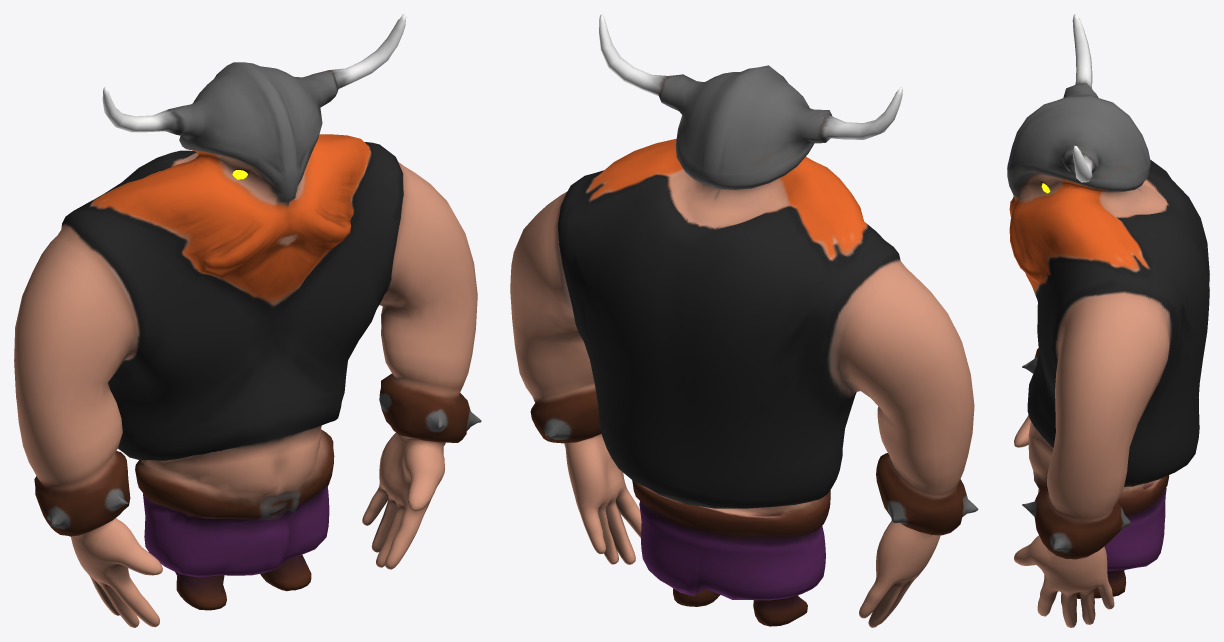
The model's file is intro_enemy(brute-viking)_01.FBX.
3 views of the same model, side by side, from view 1: azimuth 30°, elevation 25°; view 2: azimuth 150°, elevation 25°; view 3: azimuth 270°, elevation 25° (orthographic). The views are drawn at different scales.
Parts seen in each view (by area): view 1: brute_viking_mesh; view 2: brute_viking_mesh; view 3: brute_viking_mesh.
Boxes of the visible parts, box(x1,y1,x2,y2) form: brute_viking_mesh: box(14, 14, 481, 627); brute_viking_mesh: box(510, 14, 978, 627); brute_viking_mesh: box(1007, 14, 1209, 627).
Bounding box in the file's own units: 42.14 × 48.94 × 18.09.
